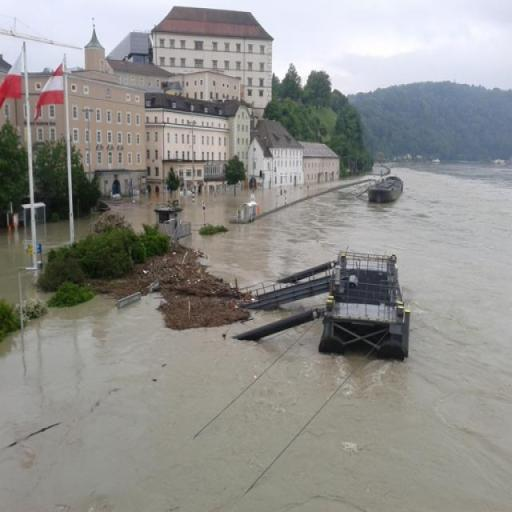flood: (0, 164, 512, 512), (179, 175, 376, 230), (0, 226, 32, 304), (106, 194, 166, 232), (110, 195, 167, 230), (37, 220, 69, 260), (75, 212, 100, 240), (22, 272, 37, 298)
house: (146, 6, 276, 107), (58, 62, 160, 182), (148, 68, 250, 165), (249, 118, 304, 188), (302, 138, 342, 183)
